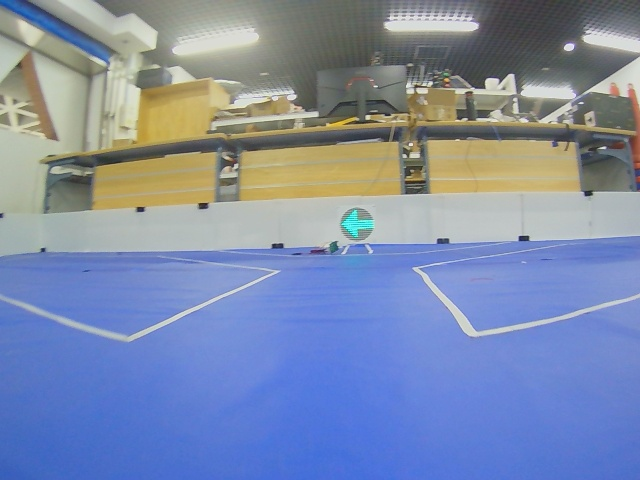left_green: (340, 208, 375, 241)
